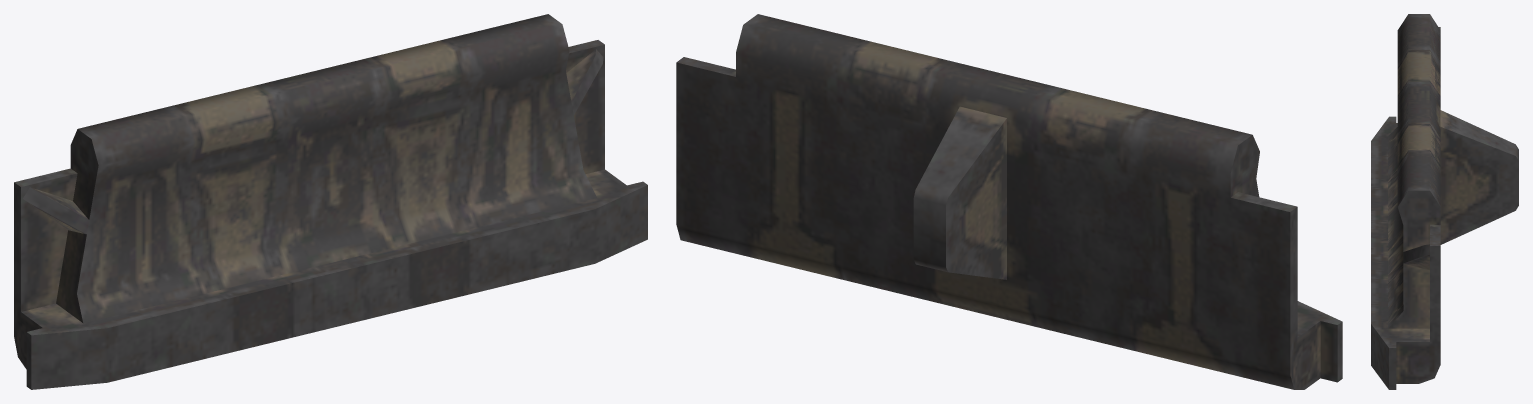
3 views of the same model, side by side, from view 1: azimuth 30°, elevation 25°; view 2: azimuth 150°, elevation 25°; view 3: azimuth 270°, elevation 25° (orthographic). The views are drawn at different scales.
Visible parts, largest first — view 1: set_0_group_0; view 2: set_0_group_0; view 3: set_0_group_0.
Boxes of the visible parts, box(x1,y1,x2,y2) form: set_0_group_0: box(14, 14, 647, 389); set_0_group_0: box(676, 14, 1342, 389); set_0_group_0: box(1371, 14, 1518, 389).
Bounding box in the file's own units: 0.42 × 0.1457 × 0.1134.
Materials: 1 (1 with a texture image).
